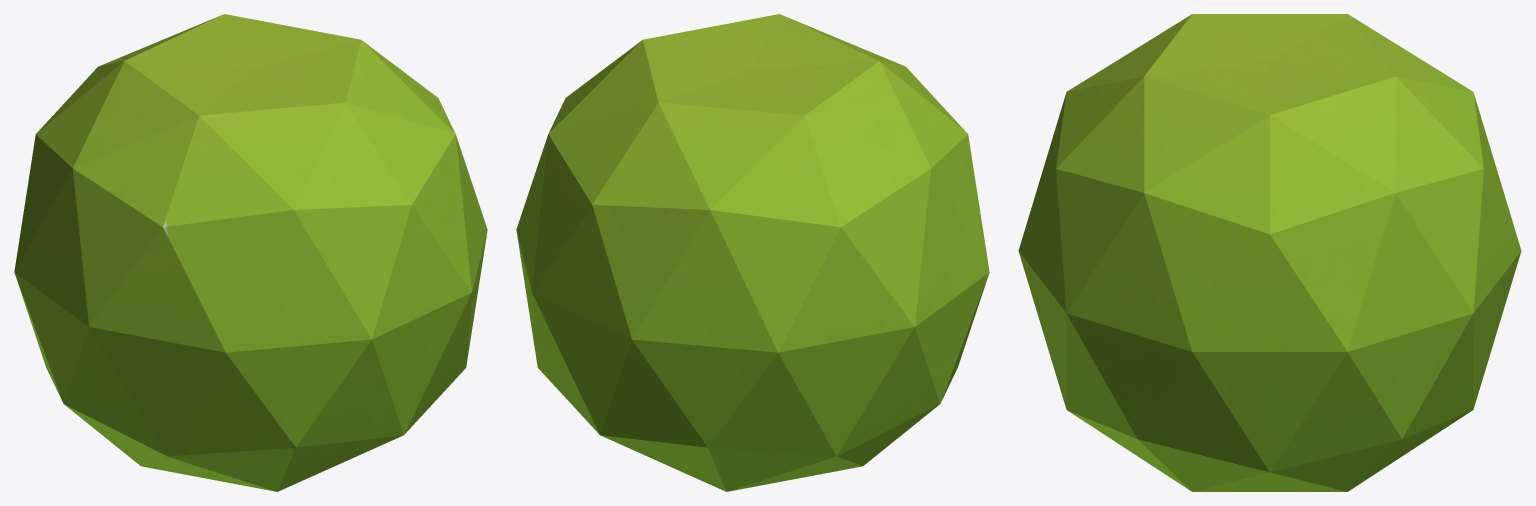
The model's file is orange2.glb.
3 renders of one model, left to right at view 1: azimuth 30°, elevation 25°; view 2: azimuth 150°, elevation 25°; view 3: azimuth 270°, elevation 25°, orthographic. The views are drawn at different scales.
Parts seen in each view (by area): view 1: Orange2; view 2: Orange2; view 3: Orange2.
Part boxes in pixels (left/top/right/bottom): Orange2: left=14, top=14, right=487, bottom=491; Orange2: left=516, top=14, right=989, bottom=491; Orange2: left=1018, top=14, right=1521, bottom=491.
Size of the model in its own units: 0.2572 by 0.2299 by 0.2704.
1 material, 1 textured.
